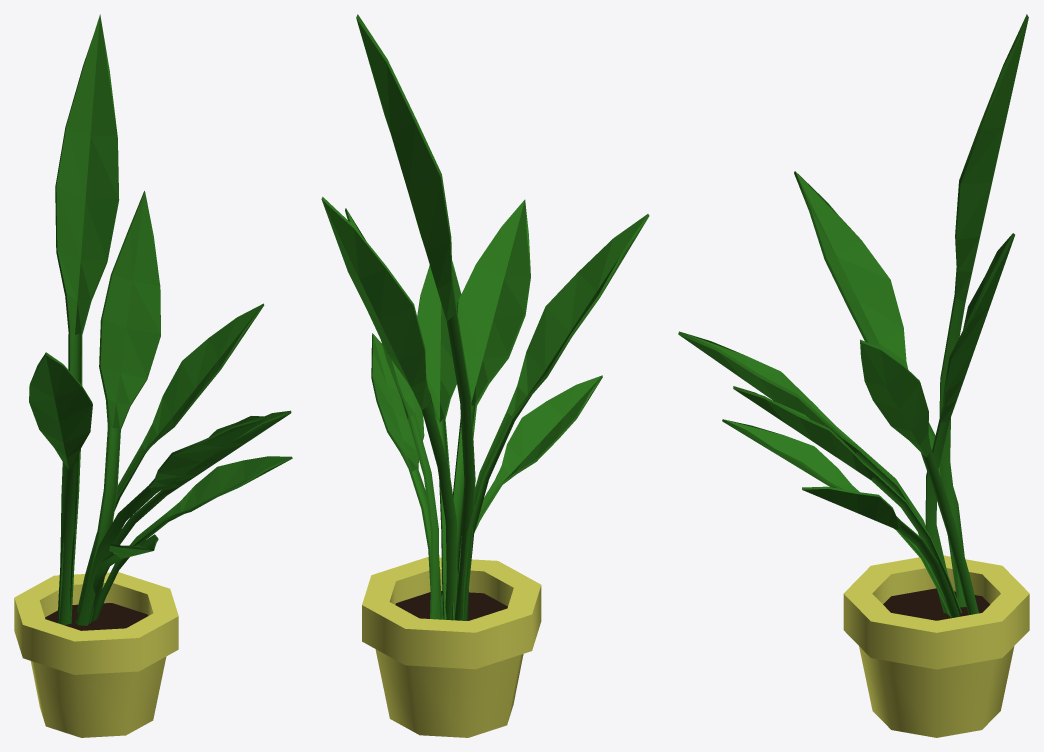
The model's file is HQ_Plant01.fbx.
The picture shows the model from 3 angles, left to right: view 1: azimuth 30°, elevation 25°; view 2: azimuth 150°, elevation 25°; view 3: azimuth 270°, elevation 25°; orthographic projection. The views are drawn at different scales.
Visible parts, largest first — view 1: HQ_Plant01; view 2: HQ_Plant01; view 3: HQ_Plant01.
Boxes of the visible parts, x1,y1,x2,y2 form: HQ_Plant01: [14, 14, 292, 737]; HQ_Plant01: [321, 14, 649, 737]; HQ_Plant01: [678, 14, 1029, 737].
Bounding box in the file's own units: 3.72 × 9.36 × 4.14.
